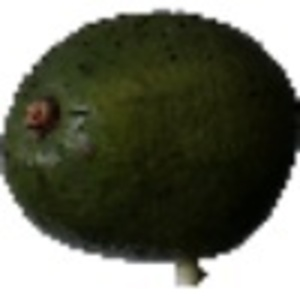abacate: (3, 8, 294, 260)
